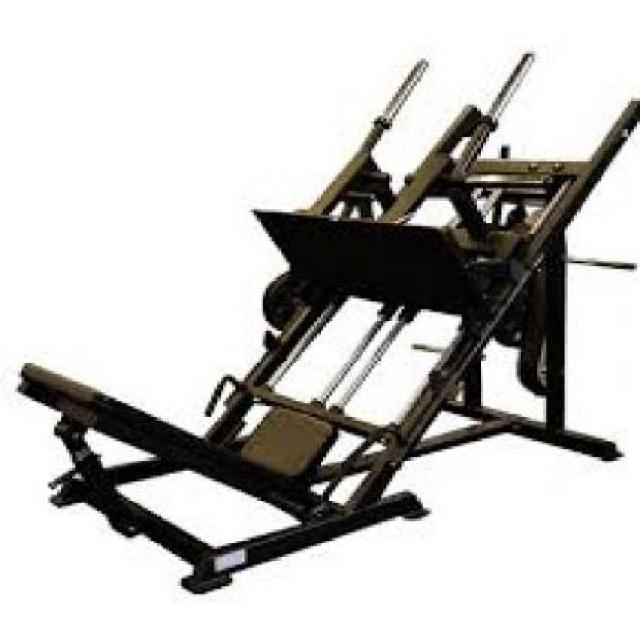leg press: (12, 35, 640, 603)
